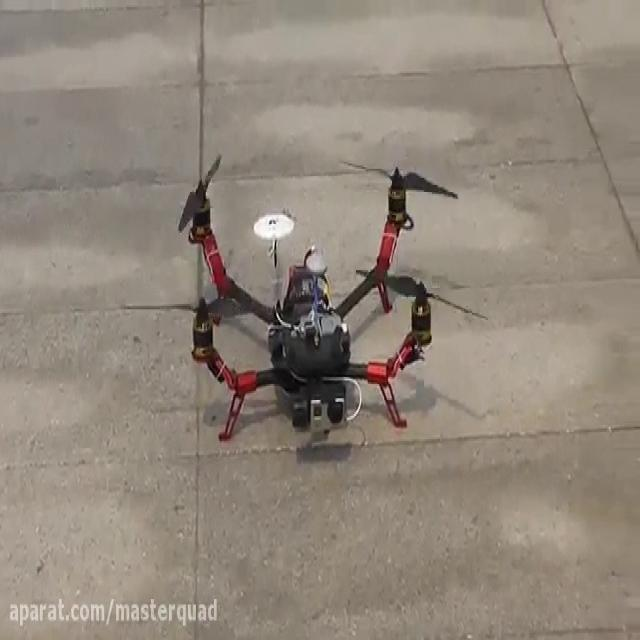drone: (125, 148, 492, 446)
